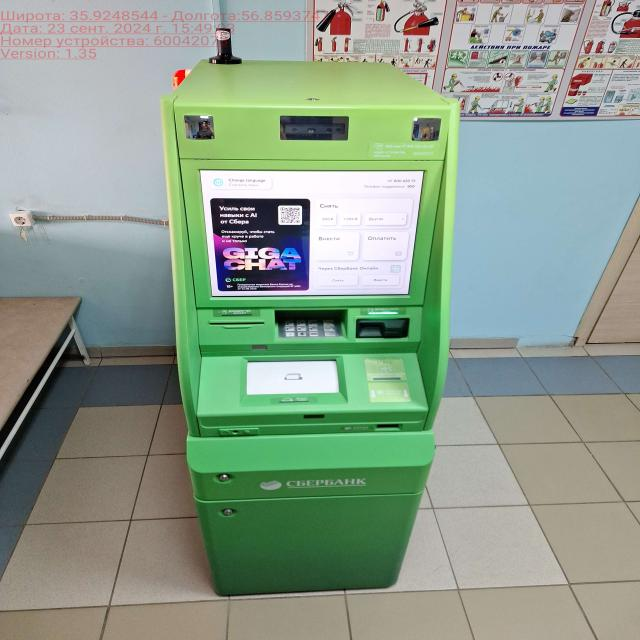bank: (157, 55, 460, 597)
